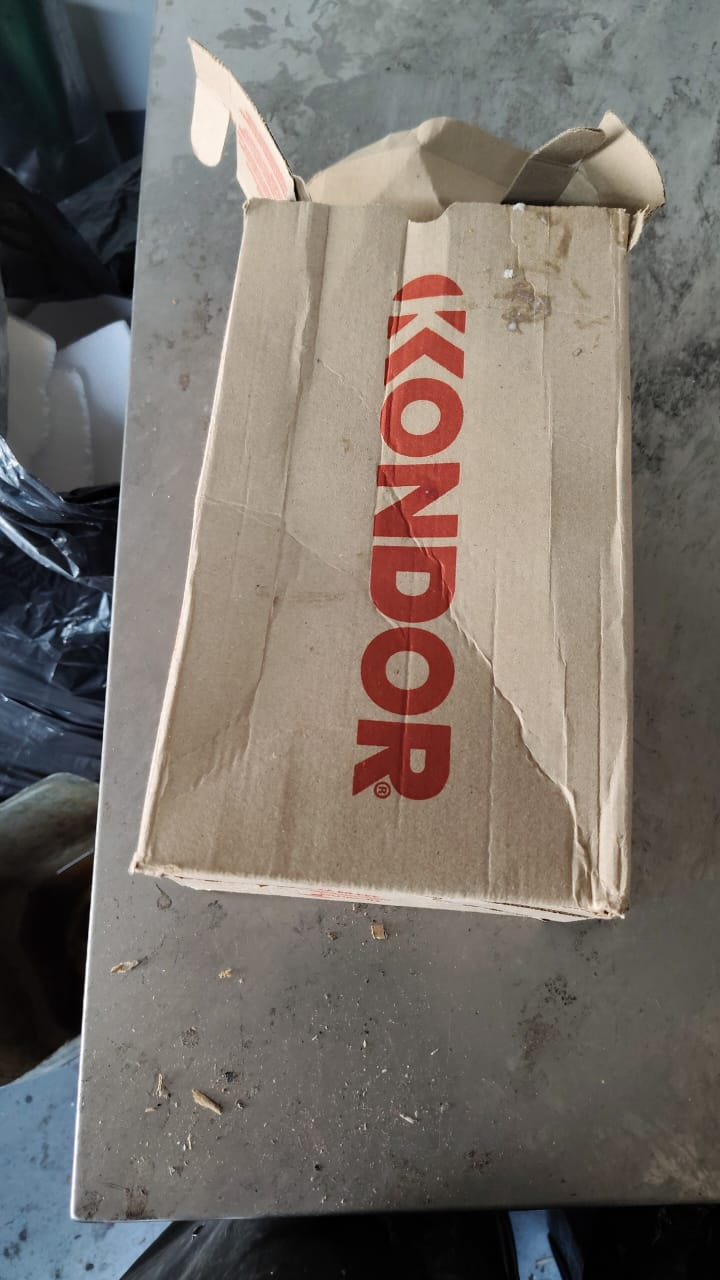Carton: (130, 114, 628, 914)
